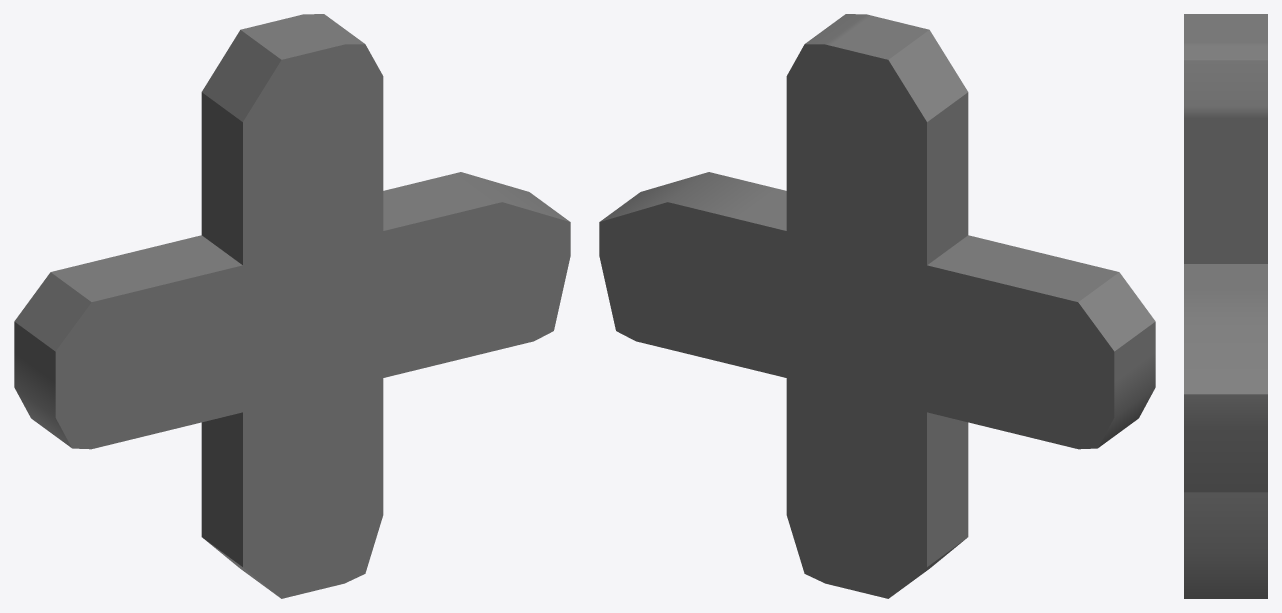
Rendered from fa-plus.obj.
3 renders of one model, left to right at view 1: azimuth 30°, elevation 25°; view 2: azimuth 150°, elevation 25°; view 3: azimuth 270°, elevation 25°, orthographic.
Size of the model in its own units: 0.8315 by 0.8315 by 0.1152.
Materials: 1 (1 with a texture image).
